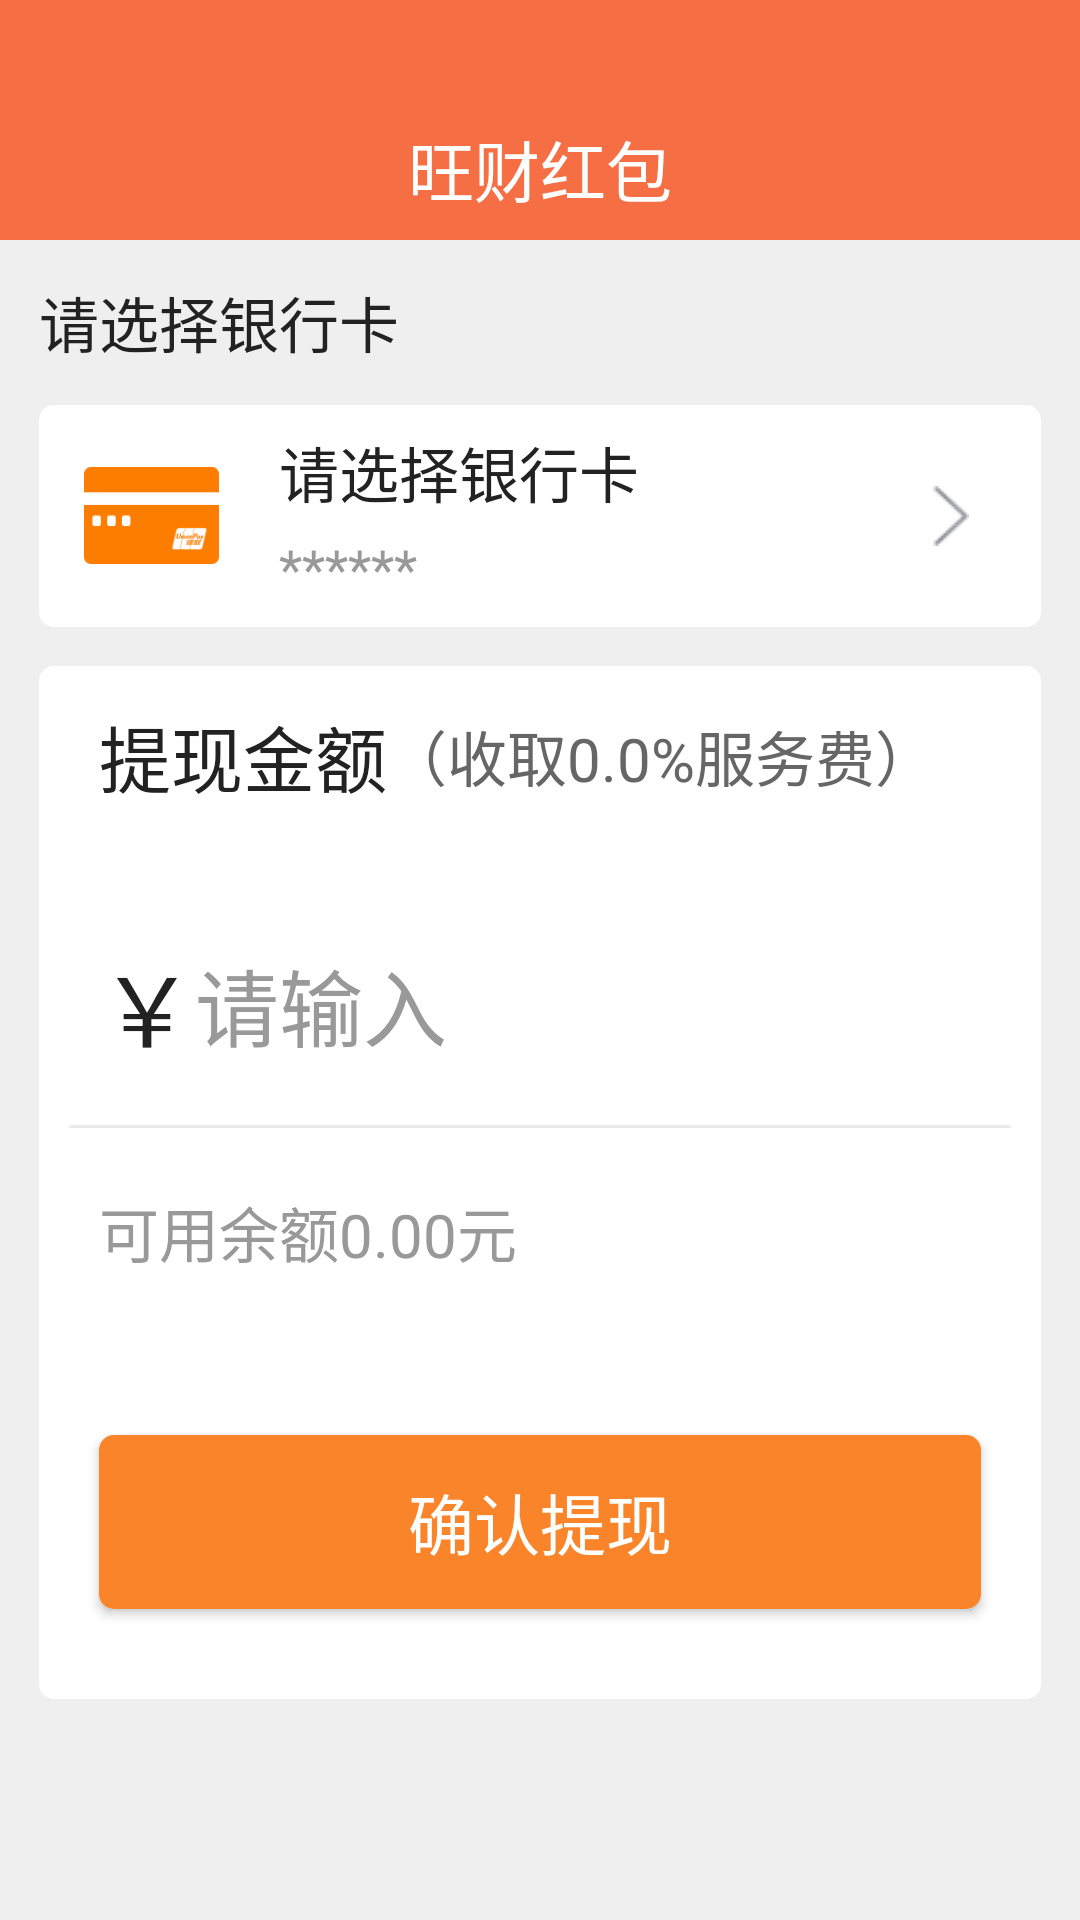

Where to tap for icons on this 1080 × 1920 app screen, as point (x, y):
right: point (951, 516)
